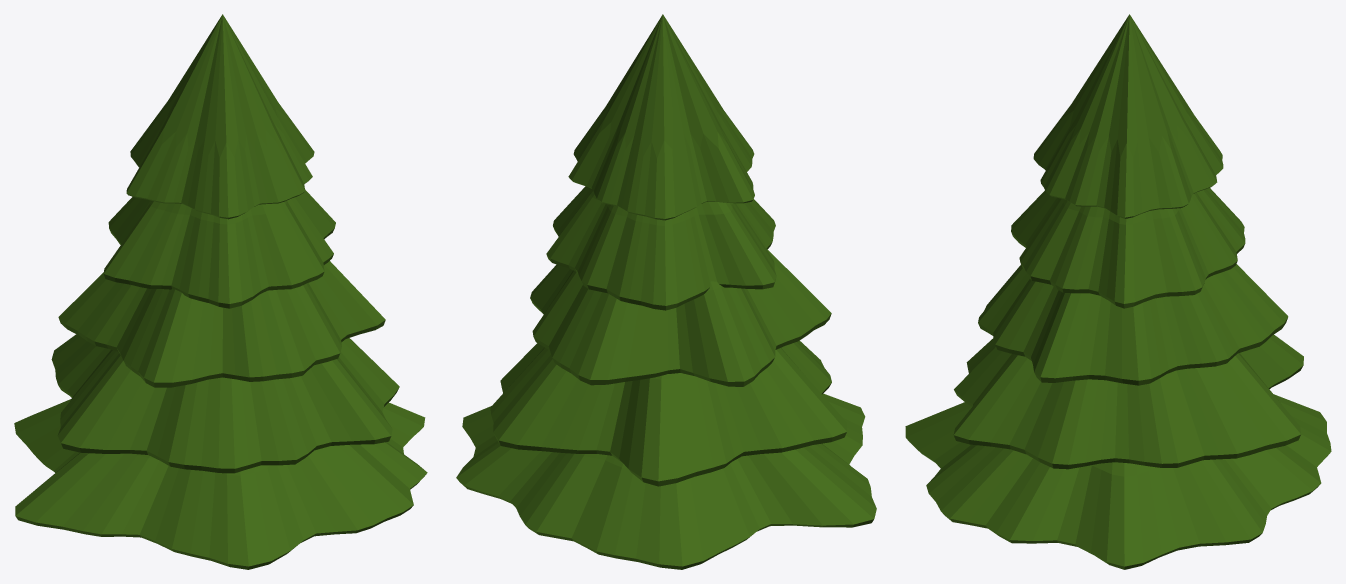
The model's file is Tree2_Visual.fbx.
The picture shows the model from 3 angles, left to right: view 1: azimuth 30°, elevation 25°; view 2: azimuth 150°, elevation 25°; view 3: azimuth 270°, elevation 25°; orthographic projection.
Parts seen in each view (by area): view 1: Circle.004; view 2: Circle.004; view 3: Circle.004.
Boxes of the visible parts, left/top/right/bottom form: Circle.004: left=14, top=14, right=427, bottom=569; Circle.004: left=456, top=14, right=876, bottom=569; Circle.004: left=905, top=14, right=1331, bottom=569.
Size of the model in its own units: 294 by 313 by 263.
